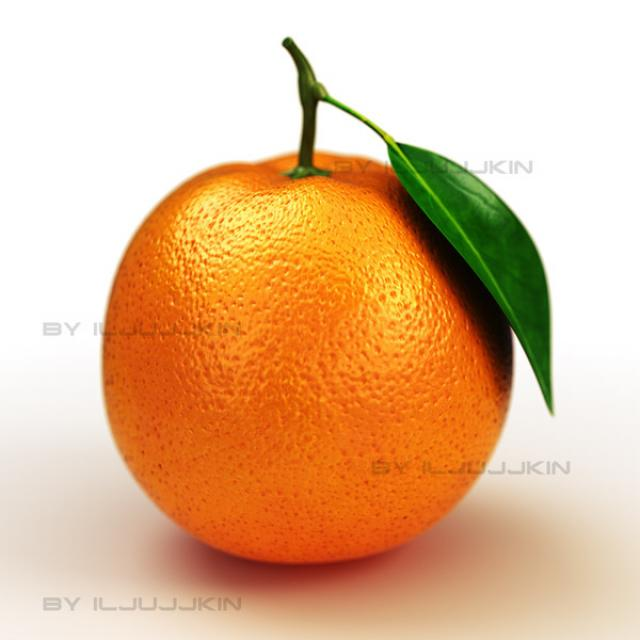orange: (102, 34, 566, 571)
